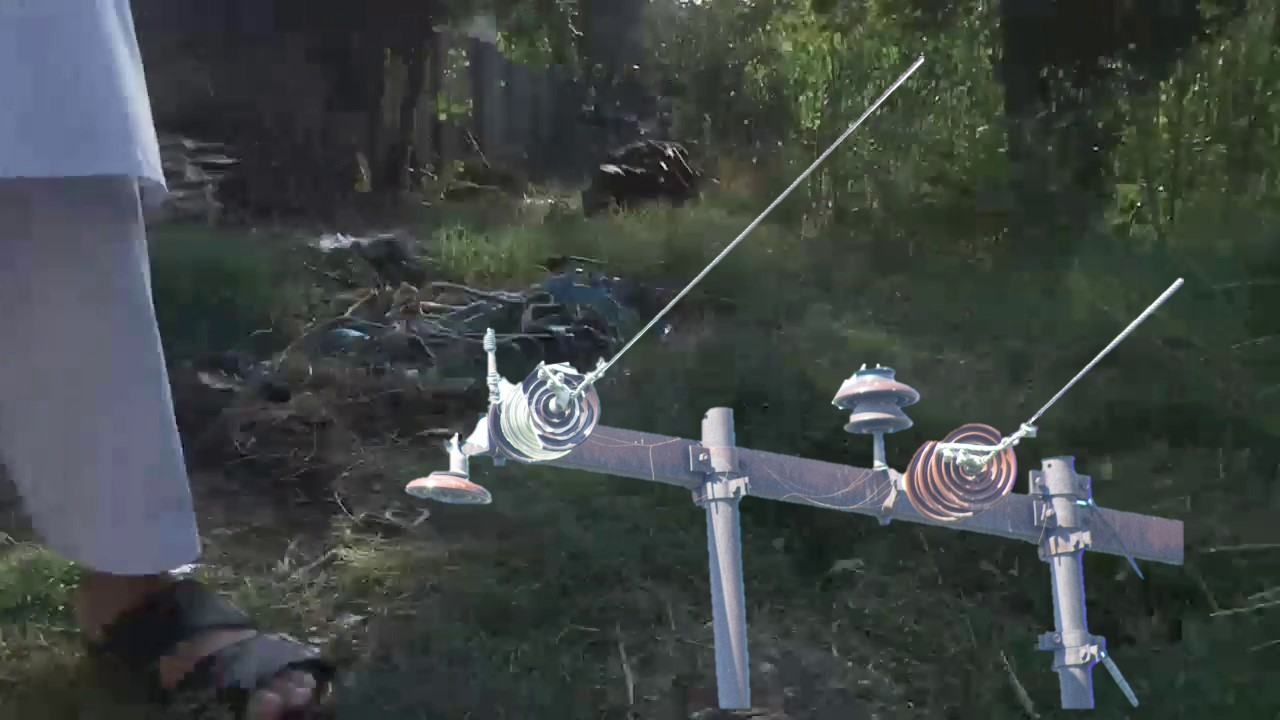defect_disc: (518, 356, 602, 459)
insulator_disc: (929, 421, 1020, 515), (404, 453, 498, 511)
